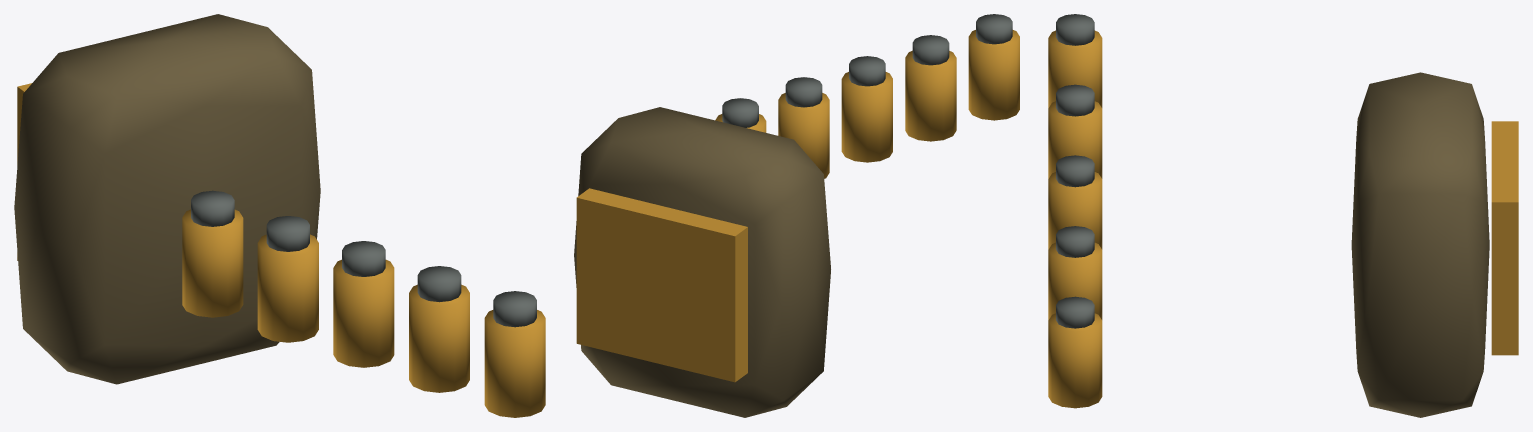
Rendered from Bastion_Grenadier_Gear.obj.
The picture shows the model from 3 angles, left to right: view 1: azimuth 30°, elevation 25°; view 2: azimuth 150°, elevation 25°; view 3: azimuth 270°, elevation 25°; orthographic projection. The views are drawn at different scales.
Visible parts, largest first — view 1: BackPack, BandolierGrenade0, BandolierGrenade2, BandolierGrenade1, BandolierGrenade4, BandolierGrenade3, BandolierCap3, BandolierCap0, BandolierCap4, BandolierCap1, BandolierCap2; view 2: BackPack, BackPlate, BandolierGrenade1, BandolierGrenade0, BandolierGrenade2, BandolierGrenade3, BandolierCap1, BandolierCap3, BandolierCap0, BandolierCap2, BandolierCap4; view 3: BackPack, BackPlate, BandolierGrenade4, BandolierGrenade1, BandolierGrenade2, BandolierGrenade3, BandolierGrenade0, BandolierCap2, BandolierCap1, BandolierCap3, BandolierCap4, BandolierCap0.
Part boxes in pixels (left/top/right/bottom): BackPack: left=14, top=14, right=320, bottom=384; BandolierGrenade0: left=182, top=209, right=243, bottom=317; BandolierGrenade2: left=333, top=259, right=394, bottom=367; BandolierGrenade1: left=257, top=234, right=318, bottom=342; BandolierGrenade4: left=484, top=310, right=545, bottom=417; BandolierGrenade3: left=409, top=284, right=469, bottom=392; BandolierCap3: left=417, top=266, right=461, bottom=302; BandolierCap0: left=191, top=190, right=234, bottom=226; BandolierCap4: left=493, top=291, right=536, bottom=327; BandolierCap1: left=266, top=216, right=309, bottom=251; BandolierCap2: left=342, top=241, right=385, bottom=276; BackPack: left=574, top=107, right=830, bottom=417; BackPlate: left=576, top=188, right=747, bottom=382; BandolierGrenade1: left=905, top=50, right=956, bottom=141; BandolierGrenade0: left=968, top=30, right=1019, bottom=120; BandolierGrenade2: left=841, top=72, right=892, bottom=162; BandolierGrenade3: left=778, top=93, right=829, bottom=178; BandolierCap1: left=912, top=35, right=949, bottom=65; BandolierCap3: left=785, top=77, right=822, bottom=107; BandolierCap0: left=976, top=14, right=1012, bottom=44; BandolierCap2: left=849, top=56, right=885, bottom=86; BandolierCap4: left=722, top=98, right=758, bottom=127; BackPack: left=1351, top=72, right=1489, bottom=417; BackPlate: left=1491, top=121, right=1518, bottom=355; BandolierGrenade4: left=1048, top=313, right=1102, bottom=408; BandolierGrenade1: left=1048, top=101, right=1102, bottom=178; BandolierGrenade2: left=1048, top=172, right=1102, bottom=249; BandolierGrenade3: left=1048, top=242, right=1102, bottom=319; BandolierGrenade0: left=1048, top=30, right=1102, bottom=107; BandolierCap2: left=1056, top=155, right=1094, bottom=187; BandolierCap1: left=1056, top=84, right=1094, bottom=116; BandolierCap3: left=1056, top=226, right=1094, bottom=257; BandolierCap4: left=1056, top=296, right=1094, bottom=328; BandolierCap0: left=1056, top=14, right=1094, bottom=45.
Bounding box in the file's own units: 0.47 × 0.4275 × 0.6125.
1 material, 1 textured.
